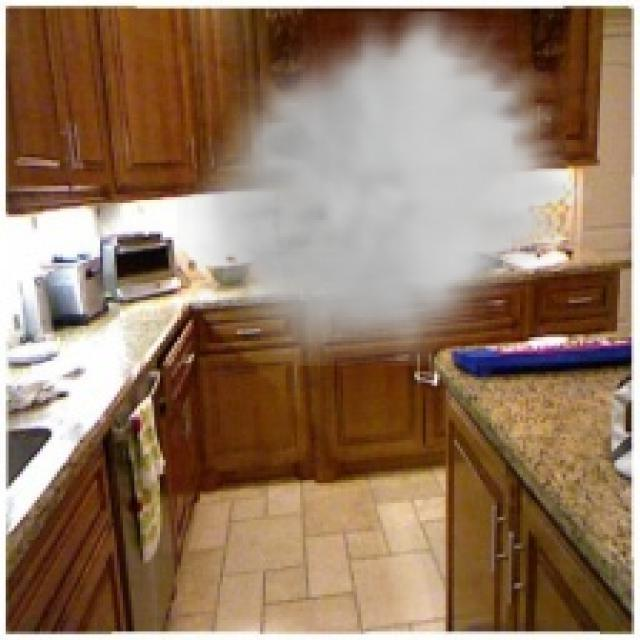Smoke: (177, 11, 592, 366)
